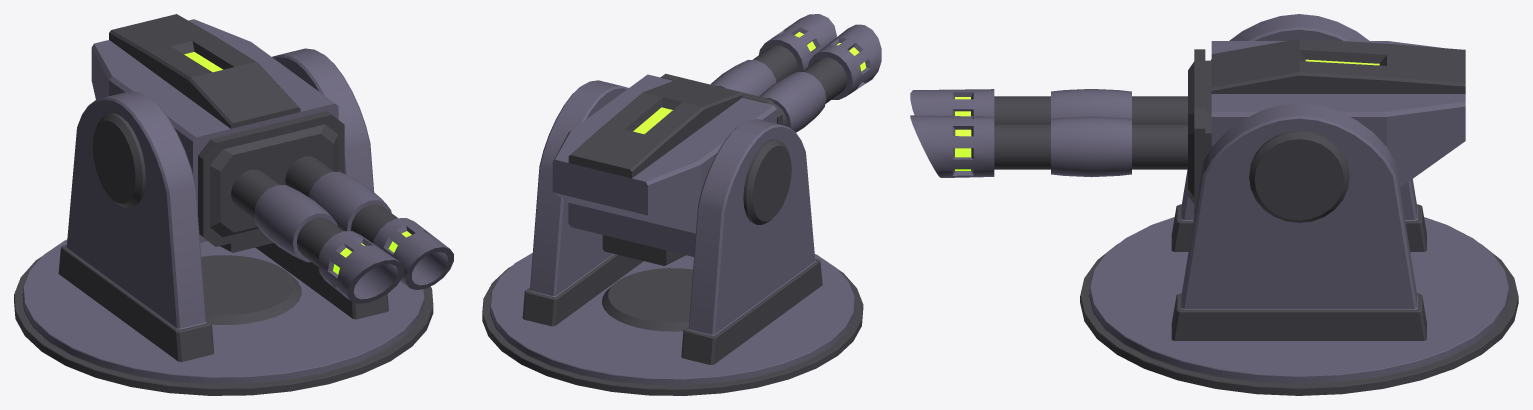
Rendered from Storm Cannon.fbx.
3 views of the same model, side by side, from view 1: azimuth 30°, elevation 25°; view 2: azimuth 150°, elevation 25°; view 3: azimuth 270°, elevation 25° (orthographic). The views are drawn at different scales.
Parts seen in each view (by area): view 1: Turret_Ring, Storm_Cannon; view 2: Turret_Ring, Storm_Cannon; view 3: Turret_Ring, Storm_Cannon.
Boxes of the visible parts, box(x1,y1,x2,y2) form: Turret_Ring: box(14, 48, 433, 395); Storm_Cannon: box(91, 14, 453, 303); Turret_Ring: box(482, 80, 863, 395); Storm_Cannon: box(552, 14, 881, 265); Turret_Ring: box(1080, 14, 1518, 395); Storm_Cannon: box(910, 38, 1465, 214).
Bounding box in the file's own units: 250 × 156 × 347.
